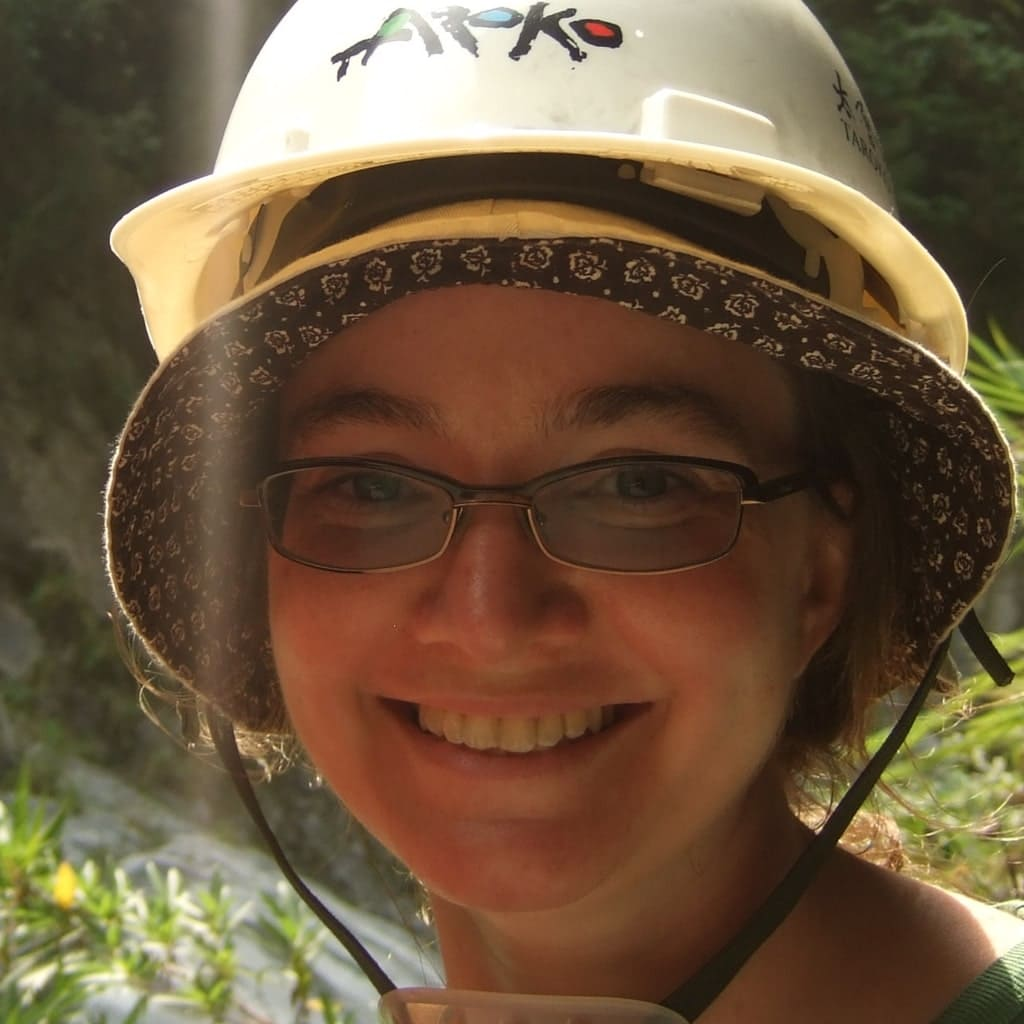without_mask: (277, 247, 791, 900)
